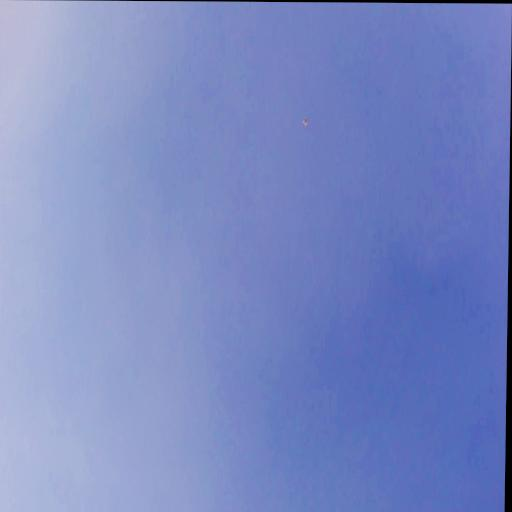drones: (299, 114, 311, 131)
